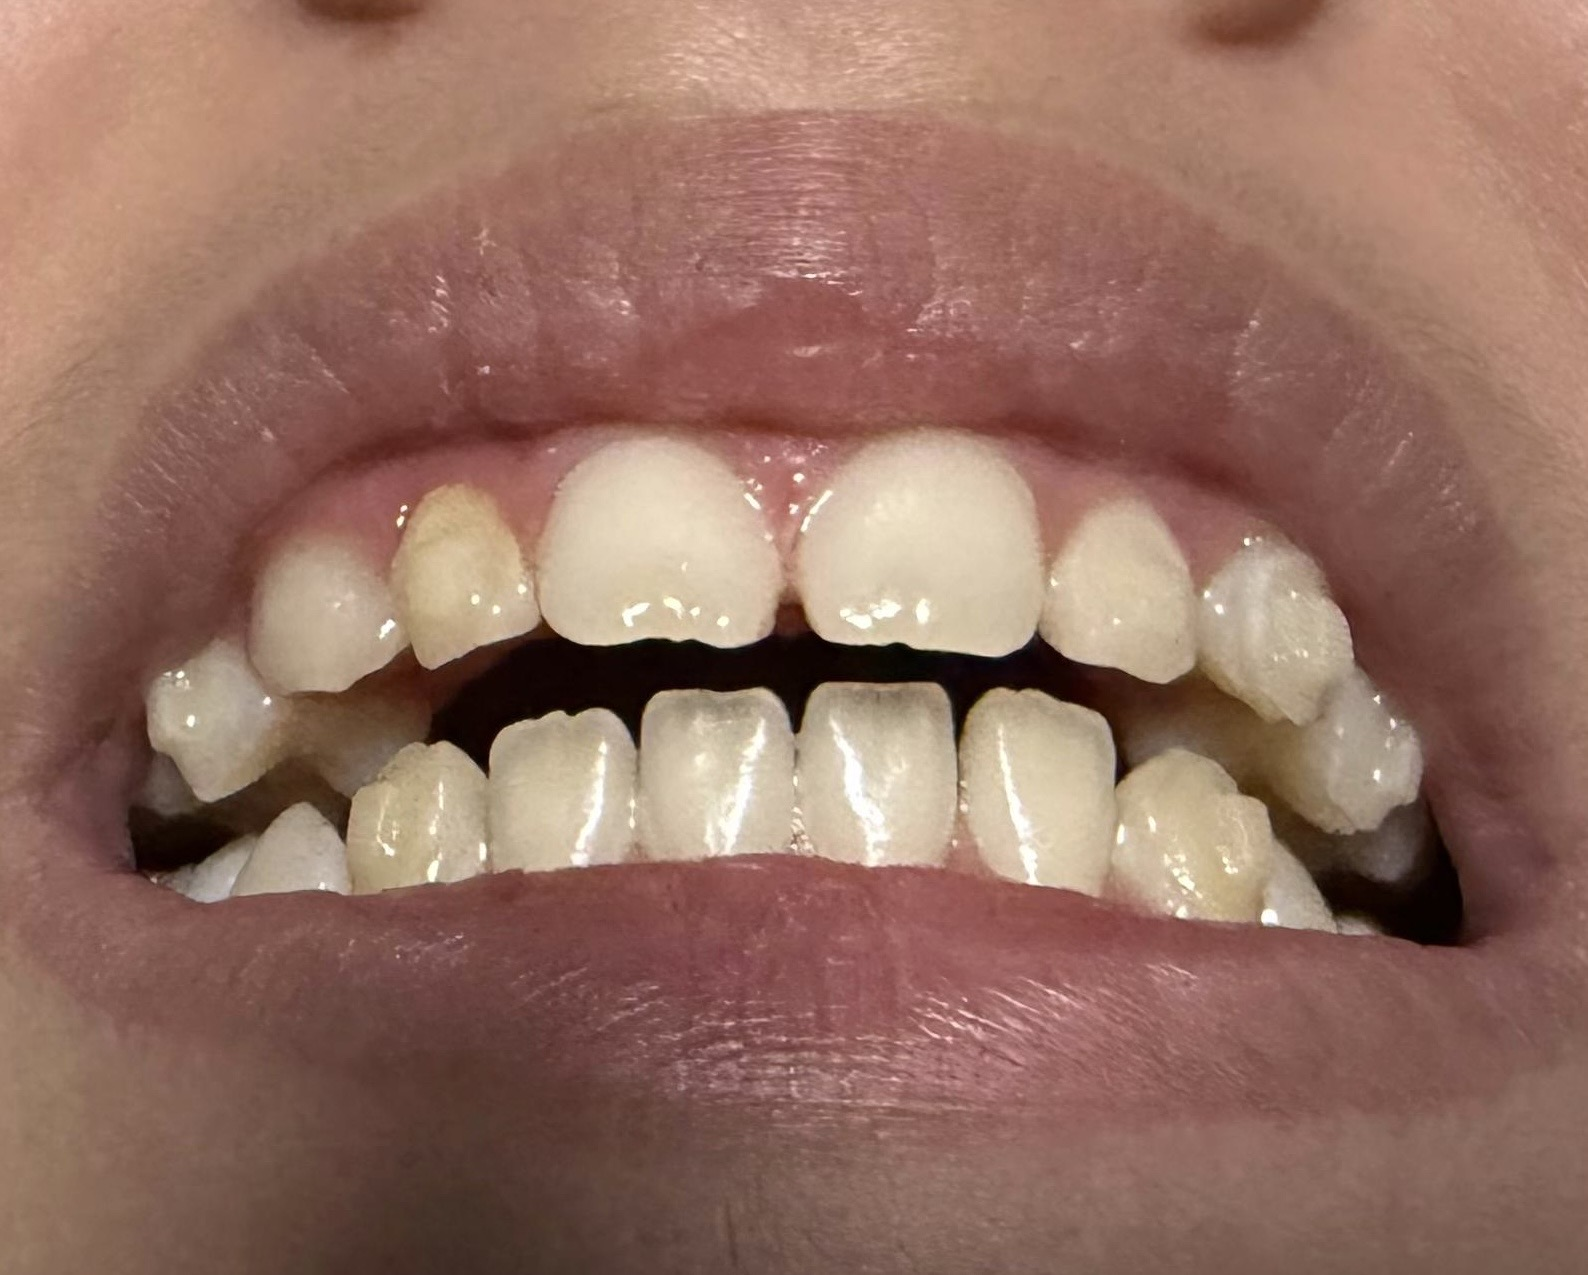teeth: (802, 423, 1053, 658), (527, 431, 773, 639), (150, 639, 433, 804), (968, 683, 1113, 902), (395, 479, 540, 683), (1208, 535, 1354, 727), (1116, 747, 1265, 926), (1258, 684, 1428, 840), (640, 693, 791, 866), (802, 692, 949, 866), (1059, 507, 1202, 684), (250, 524, 399, 679), (489, 712, 629, 863), (354, 758, 492, 881), (217, 805, 351, 896), (1272, 840, 1343, 935)
